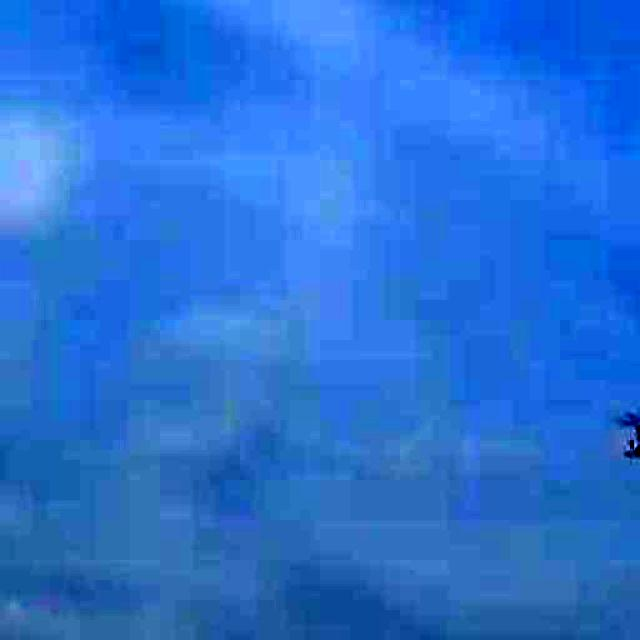drone: (604, 408, 640, 468)
